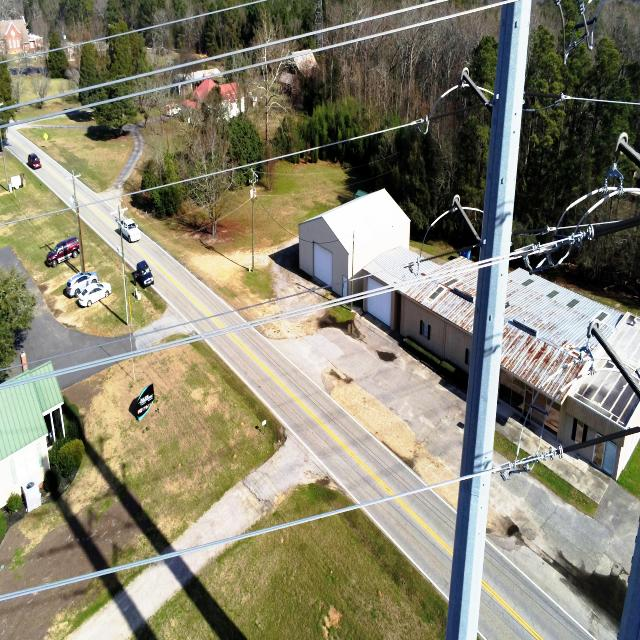poles: (480, 0, 531, 260), (460, 260, 508, 476), (446, 475, 490, 640)
wires: (0, 426, 640, 601), (41, 280, 424, 379), (100, 115, 432, 200), (0, 0, 266, 106), (324, 0, 514, 49), (0, 89, 158, 129), (470, 235, 579, 270), (0, 211, 60, 226), (349, 12, 401, 25), (35, 66, 50, 81), (300, 50, 321, 55)
